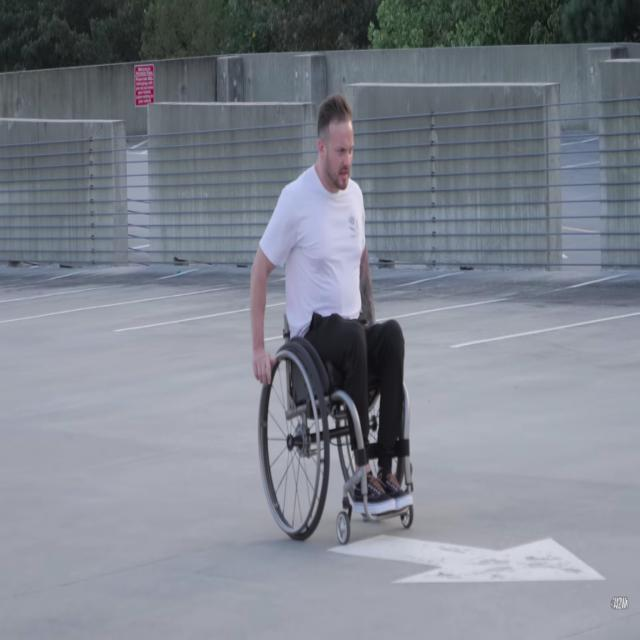wheelchairs: (257, 320, 414, 548)
